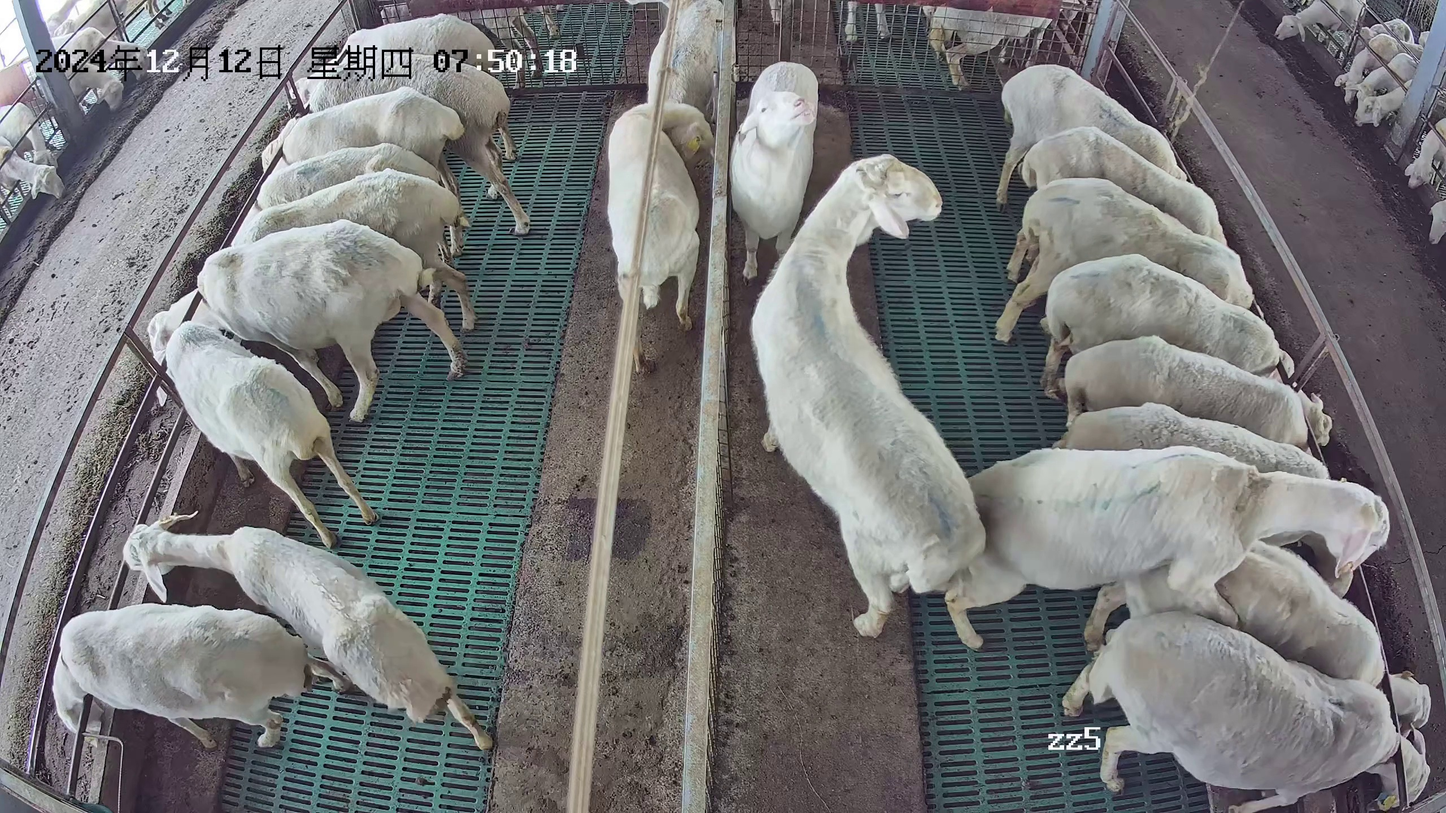Smounting: (943, 445, 1435, 732)
mounted: (1060, 540, 1433, 730)
